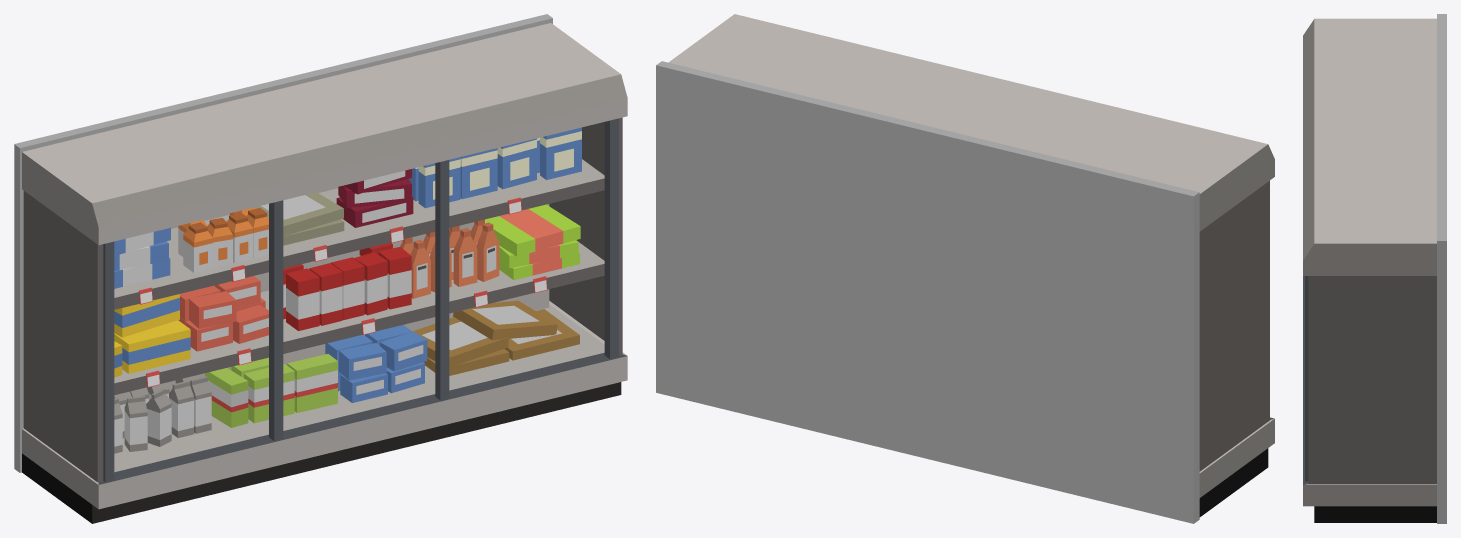
Rendered from ShelfFreezerPreset2.glb.
3 views of the same model, side by side, from view 1: azimuth 30°, elevation 25°; view 2: azimuth 150°, elevation 25°; view 3: azimuth 270°, elevation 25° (orthographic). The views are drawn at different scales.
Parts seen in each view (by area): view 1: SI_Prop_Shelf_Freezer_Preset_02; view 2: SI_Prop_Shelf_Freezer_Preset_02; view 3: SI_Prop_Shelf_Freezer_Preset_02.
Part boxes in pixels (x1,y1,x2,y2): SI_Prop_Shelf_Freezer_Preset_02: (14,14,627,523); SI_Prop_Shelf_Freezer_Preset_02: (656,14,1274,523); SI_Prop_Shelf_Freezer_Preset_02: (1303,14,1446,523).
Size of the model in its own units: 0.0788 by 0.0459 by 0.0211.
1 material, 1 textured.
